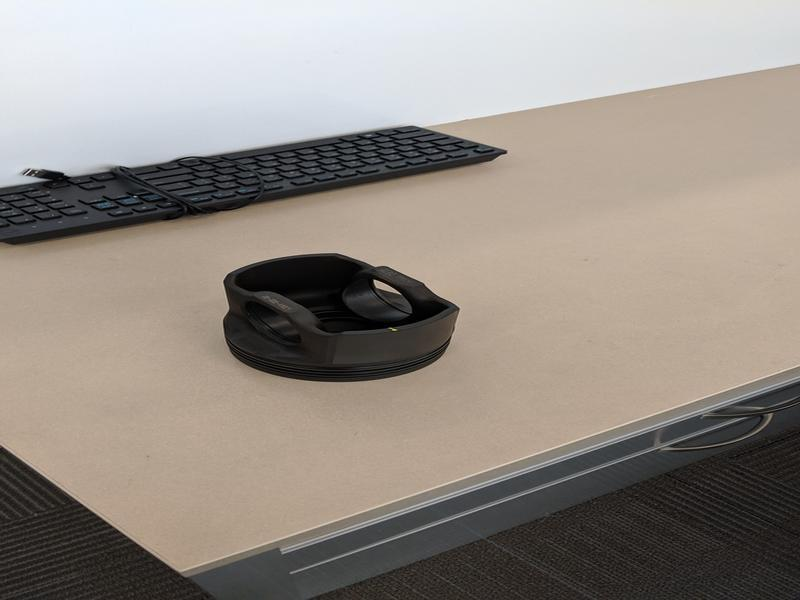piston: (217, 247, 470, 386)
